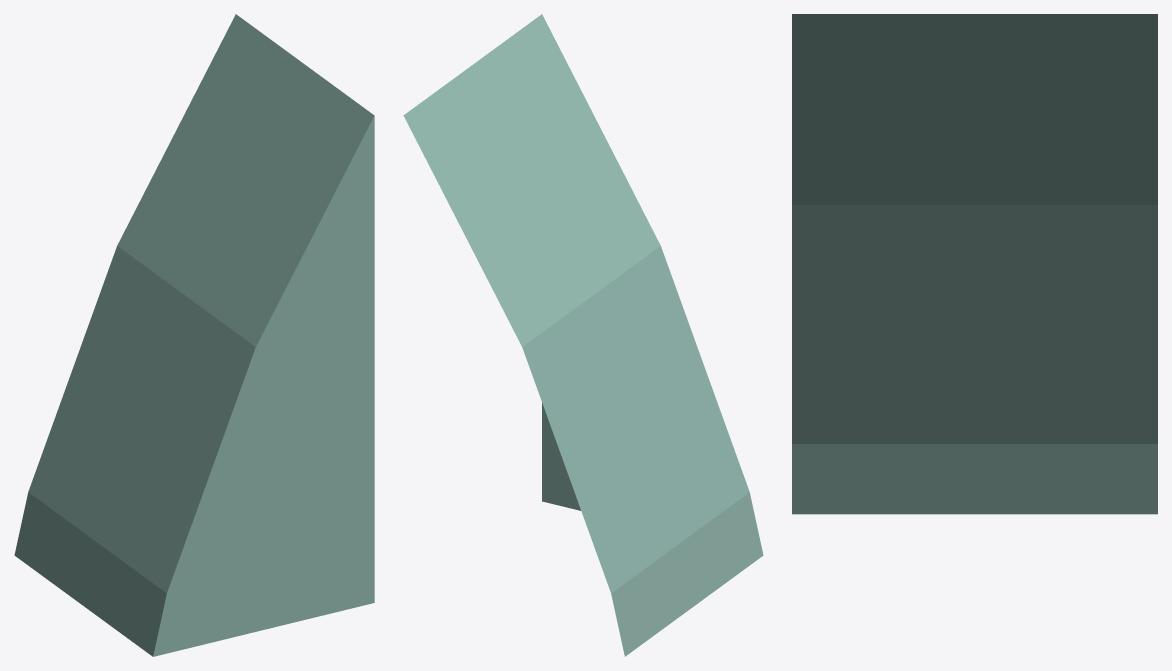
File: cell_145.obj
3 renders of one model, left to right at view 1: azimuth 30°, elevation 25°; view 2: azimuth 150°, elevation 25°; view 3: azimuth 270°, elevation 25°, orthographic. The views are drawn at different scales.
Bounding box in the file's own units: 0.2767 × 0.582 × 0.3.
